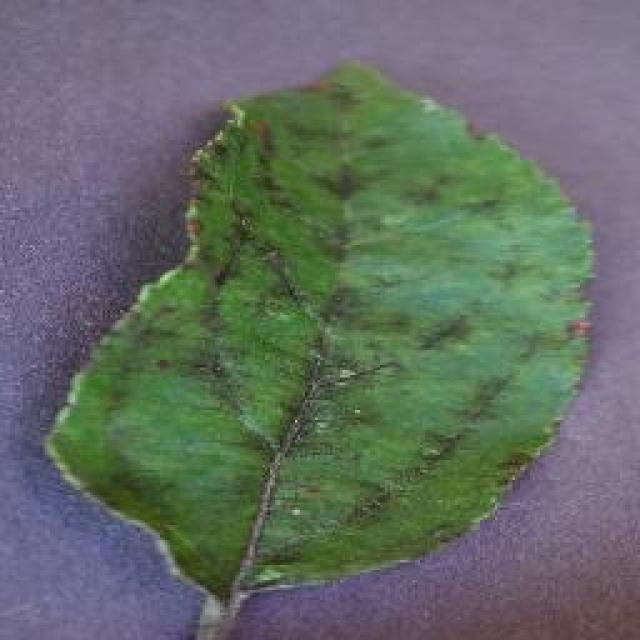apple scab disease: (40, 52, 600, 632)
